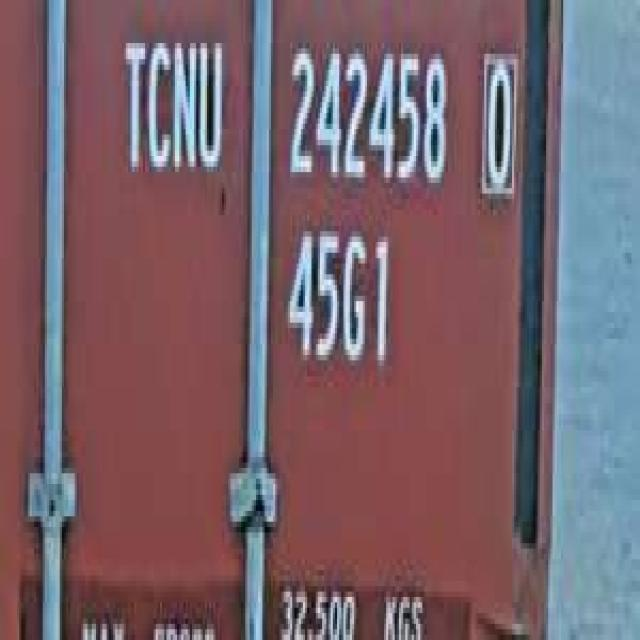dv: (476, 38, 520, 204)
owner: (115, 16, 228, 188)
serial: (280, 27, 454, 204)
size: (282, 215, 396, 387)
